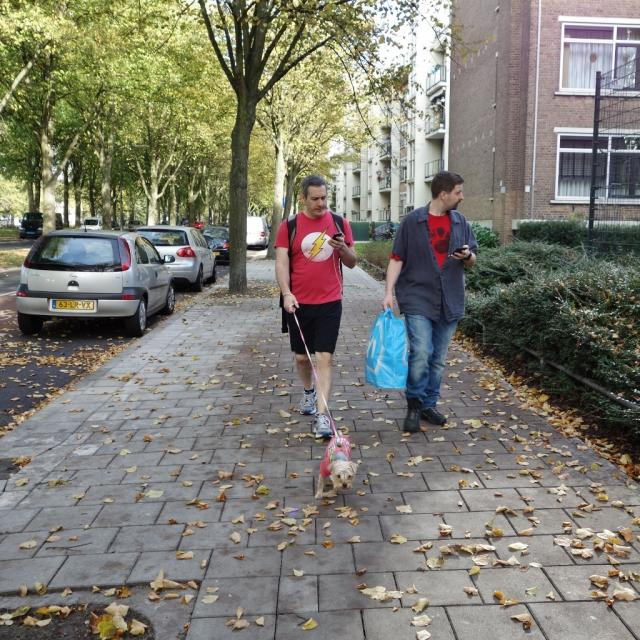car: (13, 220, 198, 338), (130, 217, 216, 294), (199, 223, 234, 262), (244, 209, 266, 250)
